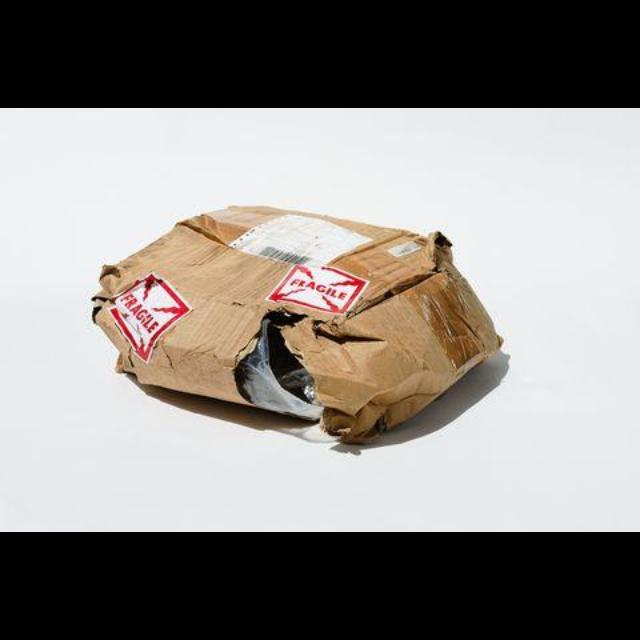papelão: (92, 204, 506, 446)
